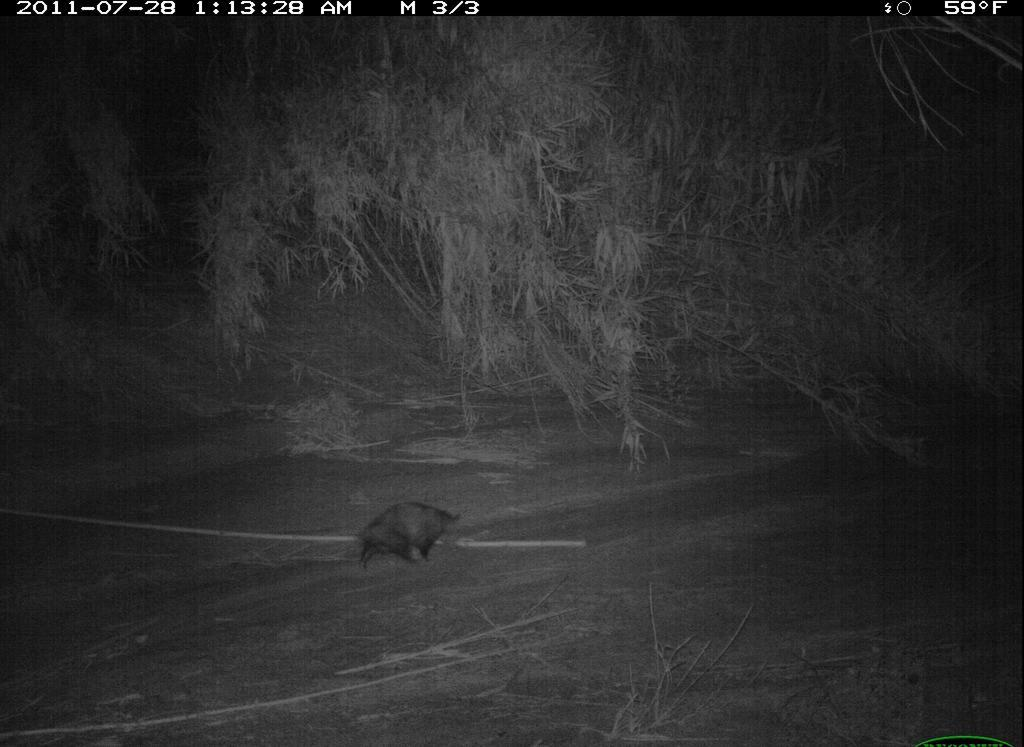opossum: (332, 488, 475, 583)
